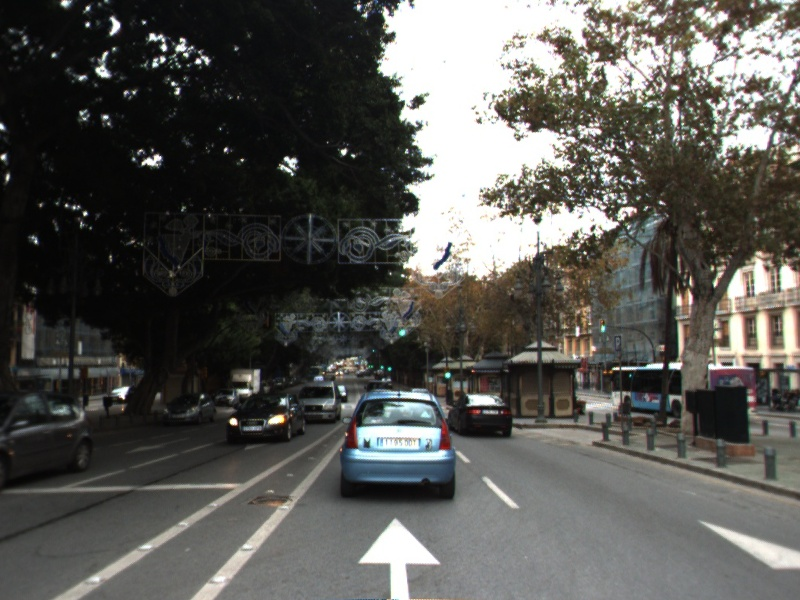STRAIGHT: (354, 512, 445, 600)
